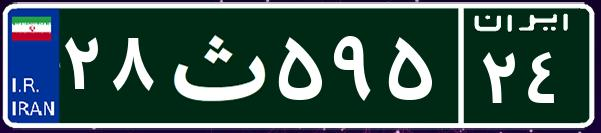2: (57, 26, 110, 107), (475, 38, 525, 113)
4: (525, 38, 570, 115)
5: (385, 28, 445, 110), (273, 28, 330, 110)
8: (110, 28, 158, 105)
9: (330, 28, 385, 110)
ث: (158, 15, 273, 115)
